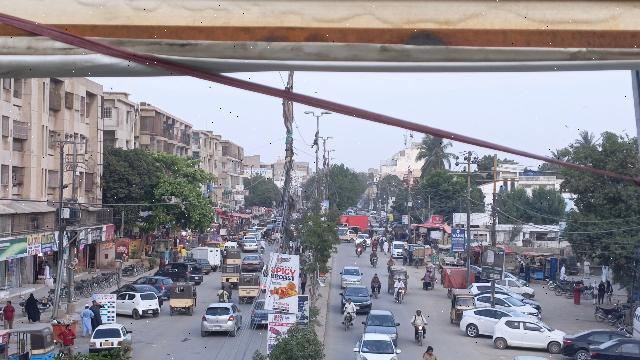Bike: (413, 323, 429, 346), (370, 282, 383, 301), (342, 311, 354, 331), (395, 286, 407, 305)
Car: (491, 316, 569, 352), (560, 324, 621, 360), (458, 305, 521, 339), (199, 302, 244, 338), (89, 323, 132, 357), (351, 331, 401, 360), (361, 309, 401, 344), (116, 291, 162, 320), (152, 260, 205, 284), (586, 337, 640, 360), (339, 284, 372, 313), (339, 263, 364, 290), (250, 297, 269, 331)
Cart: (420, 262, 438, 291)
Person: (57, 323, 79, 360), (22, 293, 41, 323), (0, 298, 18, 329), (79, 304, 94, 337), (89, 300, 104, 326), (409, 308, 428, 326), (603, 278, 615, 306), (589, 279, 599, 306), (343, 297, 356, 316), (597, 279, 606, 303), (370, 271, 383, 286), (394, 277, 407, 291)
Rickshaw: (447, 286, 476, 326), (168, 280, 198, 317), (237, 272, 261, 303), (387, 266, 409, 294), (219, 263, 241, 288)
Truck: (189, 245, 221, 269)
